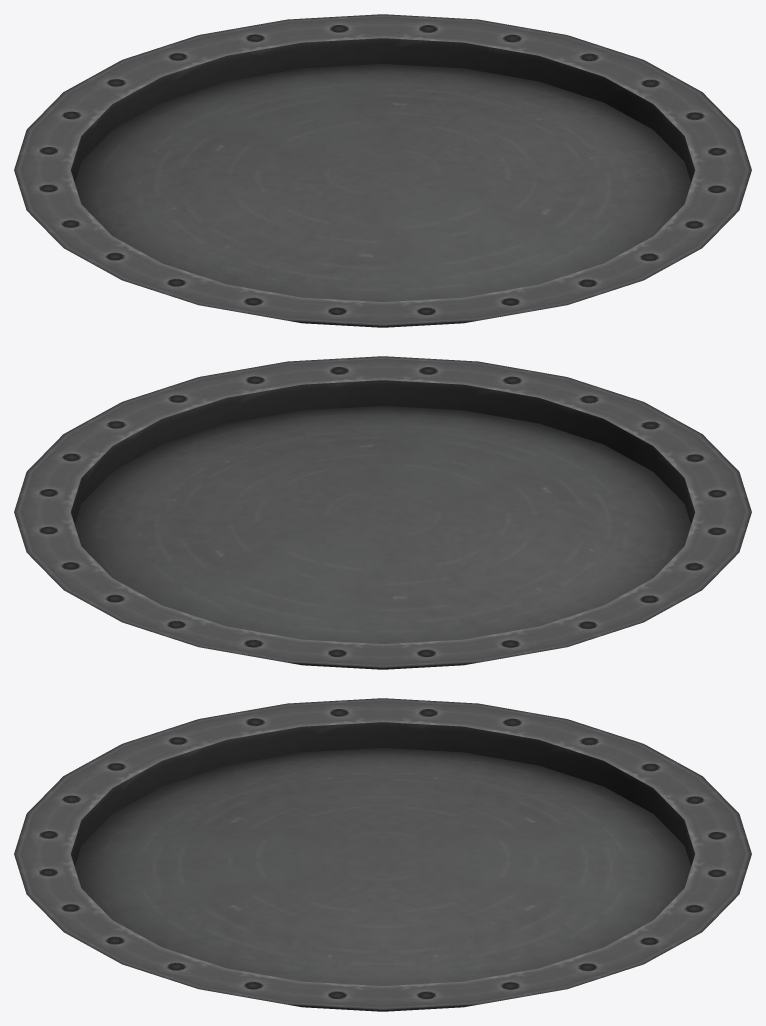
Rendered from endcap_s1p3.fbx.
3 views of the same model, one above another, from view 1: azimuth 30°, elevation 25°; view 2: azimuth 150°, elevation 25°; view 3: azimuth 270°, elevation 25° (orthographic).
Visible parts, largest first — view 1: end; view 2: end; view 3: end.
Part boxes in pixels (bbox=[...]): end: bbox=[14, 14, 751, 327]; end: bbox=[14, 356, 751, 669]; end: bbox=[14, 698, 751, 1011].
Size of the model in its own units: 1.62 by 0.0625 by 1.62.
